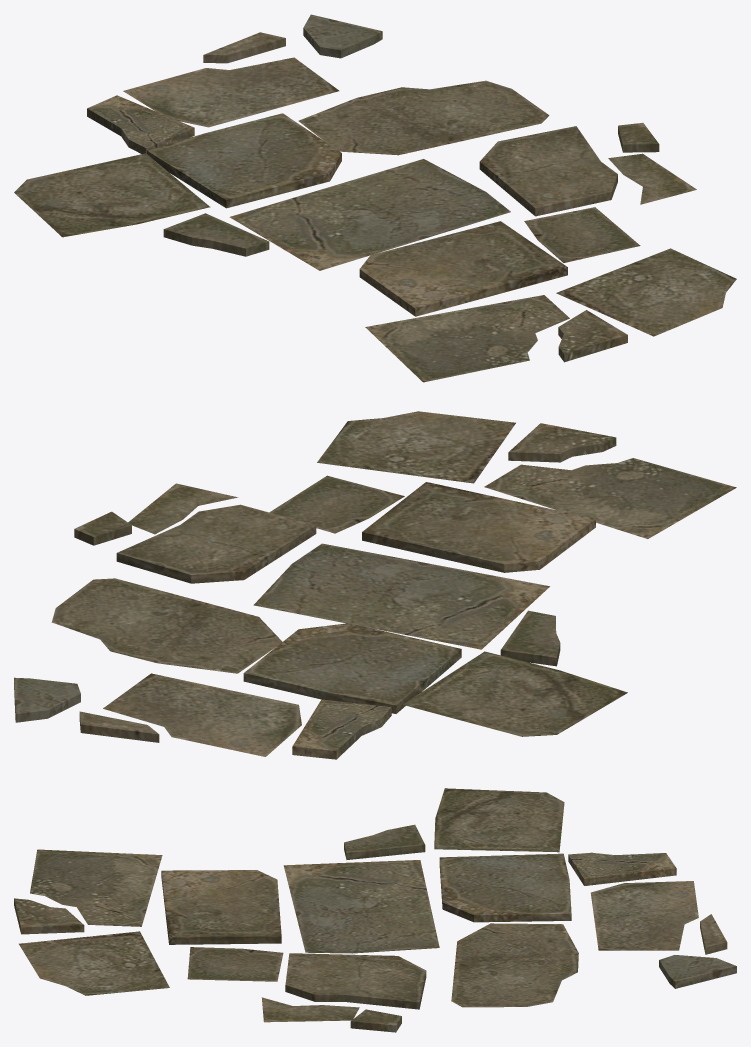
File: bg_anh_gvalley_floore01_02_sm_old.FBX
3 renders of one model, top to bottom at view 1: azimuth 30°, elevation 25°; view 2: azimuth 150°, elevation 25°; view 3: azimuth 270°, elevation 25°, orthographic. The views are drawn at different scales.
Visible parts, largest first — view 1: bg_anh_gvalley_floore01_02_sm_old; view 2: bg_anh_gvalley_floore01_02_sm_old; view 3: bg_anh_gvalley_floore01_02_sm_old.
Boxes of the visible parts, box(x1,y1,x2,y2) form: bg_anh_gvalley_floore01_02_sm_old: box(14, 14, 736, 382); bg_anh_gvalley_floore01_02_sm_old: box(14, 411, 736, 759); bg_anh_gvalley_floore01_02_sm_old: box(14, 788, 736, 1032).
Size of the model in its own units: 259 by 3.62 by 333.
